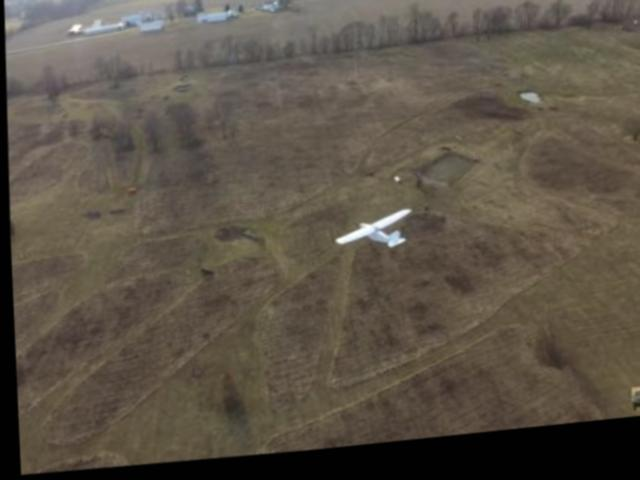uav: (322, 206, 417, 269)
